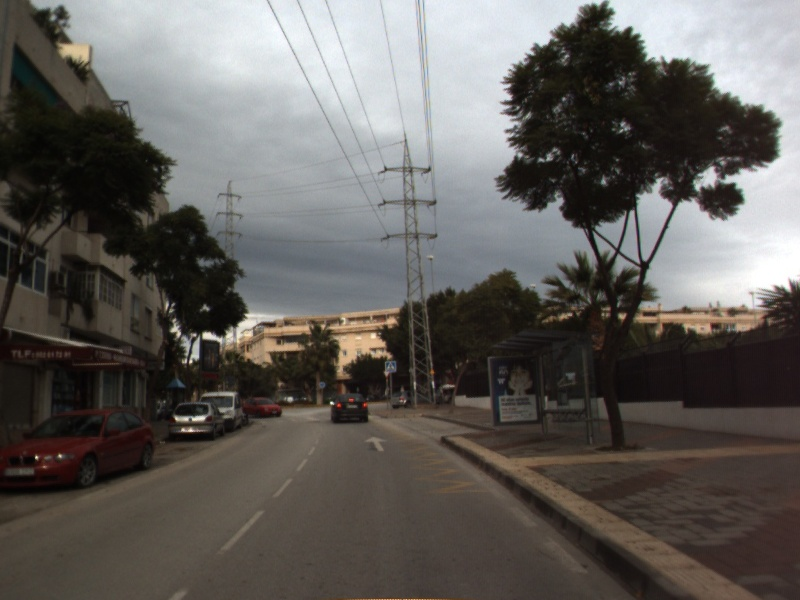STRAIGHT: (362, 434, 390, 453)
